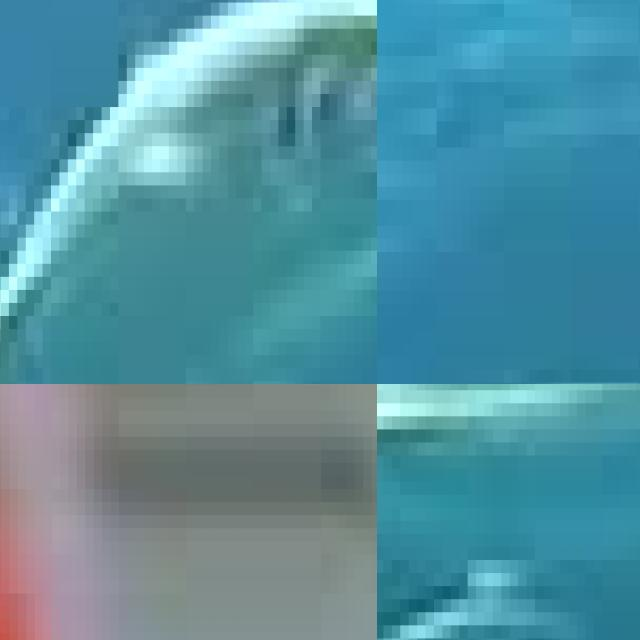fish: (0, 0, 377, 384), (0, 476, 377, 640)
